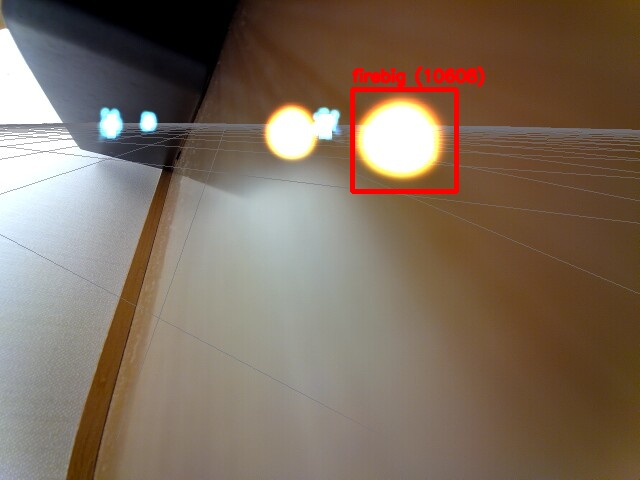firebig: (352, 89, 456, 191)
